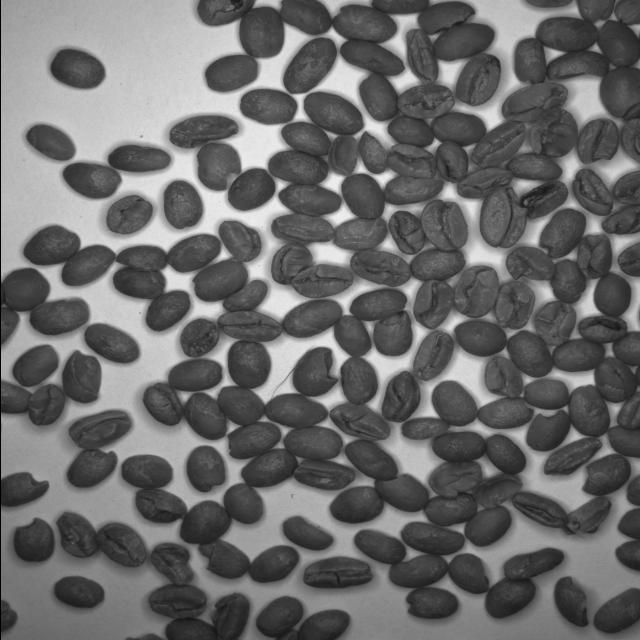bad: (478, 184, 528, 248), (470, 120, 528, 170), (500, 80, 570, 121), (67, 409, 134, 450), (453, 52, 502, 108), (526, 108, 580, 158), (420, 198, 469, 253), (300, 556, 374, 592), (337, 40, 405, 79), (190, 260, 250, 304), (166, 114, 239, 150), (541, 436, 605, 477), (452, 264, 500, 318), (262, 392, 330, 430), (536, 207, 586, 258), (290, 346, 340, 397), (94, 522, 148, 568), (194, 143, 243, 193), (348, 250, 412, 288), (27, 298, 90, 336), (288, 263, 354, 299), (196, 537, 250, 580), (65, 446, 119, 489), (426, 458, 484, 498), (328, 404, 390, 441), (580, 453, 632, 497), (146, 584, 209, 620), (61, 349, 102, 404), (500, 546, 566, 580), (411, 279, 455, 330), (373, 473, 429, 513), (225, 420, 281, 460), (379, 370, 421, 423), (217, 311, 286, 343), (492, 280, 536, 330), (410, 332, 454, 382), (56, 510, 100, 560), (226, 168, 276, 212), (395, 84, 456, 120), (598, 68, 640, 120), (270, 212, 336, 245), (291, 458, 357, 491), (276, 183, 342, 216), (330, 216, 390, 252), (148, 542, 196, 586), (414, 1, 476, 35), (184, 443, 227, 492), (571, 167, 613, 217), (358, 70, 398, 122), (575, 118, 620, 164), (532, 300, 577, 346), (104, 193, 152, 236), (403, 27, 439, 84), (544, 50, 610, 81), (518, 179, 569, 219), (454, 166, 514, 200), (104, 144, 172, 174), (403, 586, 461, 621), (524, 409, 570, 453), (268, 242, 314, 286), (216, 220, 262, 264), (141, 381, 185, 427), (594, 356, 636, 404), (210, 592, 252, 640), (562, 496, 612, 536), (552, 576, 590, 628), (472, 472, 524, 510), (476, 396, 534, 430), (384, 142, 438, 178), (134, 488, 188, 524), (12, 516, 54, 562), (119, 454, 174, 489), (0, 471, 52, 508), (502, 245, 556, 280), (547, 259, 588, 305), (372, 310, 412, 357), (279, 0, 332, 35), (446, 552, 489, 594), (177, 317, 219, 359), (483, 356, 523, 400), (575, 234, 613, 280), (504, 152, 564, 181), (27, 383, 66, 427), (387, 210, 424, 256), (513, 36, 547, 84), (194, 0, 256, 26), (432, 140, 470, 182), (576, 314, 628, 344), (114, 244, 168, 272), (326, 134, 360, 178), (357, 130, 387, 175), (600, 205, 640, 235), (572, 0, 614, 24), (613, 0, 640, 26), (0, 598, 20, 632)
good: (282, 36, 338, 94), (302, 91, 364, 136), (330, 3, 398, 43), (431, 22, 496, 62), (281, 299, 344, 339), (568, 382, 612, 438), (177, 499, 230, 545), (48, 48, 106, 90), (23, 224, 81, 266), (508, 490, 568, 530), (238, 6, 284, 58), (82, 323, 140, 364), (482, 576, 536, 620), (399, 520, 465, 556), (534, 16, 600, 52), (61, 244, 115, 288), (59, 162, 123, 199), (591, 587, 640, 635), (1, 266, 52, 312), (8, 344, 61, 388), (240, 448, 298, 488), (164, 234, 222, 274), (504, 330, 552, 378), (266, 150, 330, 186), (183, 392, 230, 441), (344, 439, 398, 481), (226, 340, 272, 389), (462, 504, 513, 548), (328, 486, 384, 526), (387, 553, 449, 589), (238, 88, 298, 125), (430, 380, 478, 426), (595, 19, 640, 68), (248, 544, 300, 586), (214, 384, 266, 426), (282, 425, 344, 460), (340, 172, 385, 220), (254, 595, 304, 638), (160, 179, 203, 229), (452, 319, 508, 357), (202, 54, 258, 92), (144, 288, 192, 332), (25, 123, 77, 163), (406, 248, 466, 282), (348, 288, 408, 322), (279, 515, 335, 551), (380, 176, 446, 206), (429, 113, 487, 147), (166, 358, 224, 392), (352, 528, 406, 564), (279, 121, 333, 157), (550, 339, 606, 373), (50, 575, 106, 609), (423, 492, 478, 526), (340, 356, 378, 405), (295, 608, 353, 640), (483, 433, 527, 475), (223, 482, 265, 524), (431, 431, 486, 463), (594, 272, 632, 317), (220, 279, 270, 313), (110, 270, 166, 300), (334, 314, 372, 358), (522, 378, 570, 411), (386, 116, 435, 148), (398, 416, 451, 441), (165, 617, 220, 640), (0, 380, 33, 416), (606, 424, 640, 458), (610, 329, 640, 367), (612, 169, 640, 205), (620, 117, 640, 167), (615, 390, 640, 430), (370, 0, 430, 15), (613, 539, 640, 572), (616, 242, 640, 278), (616, 506, 640, 540), (524, 0, 574, 11), (625, 472, 640, 507)
